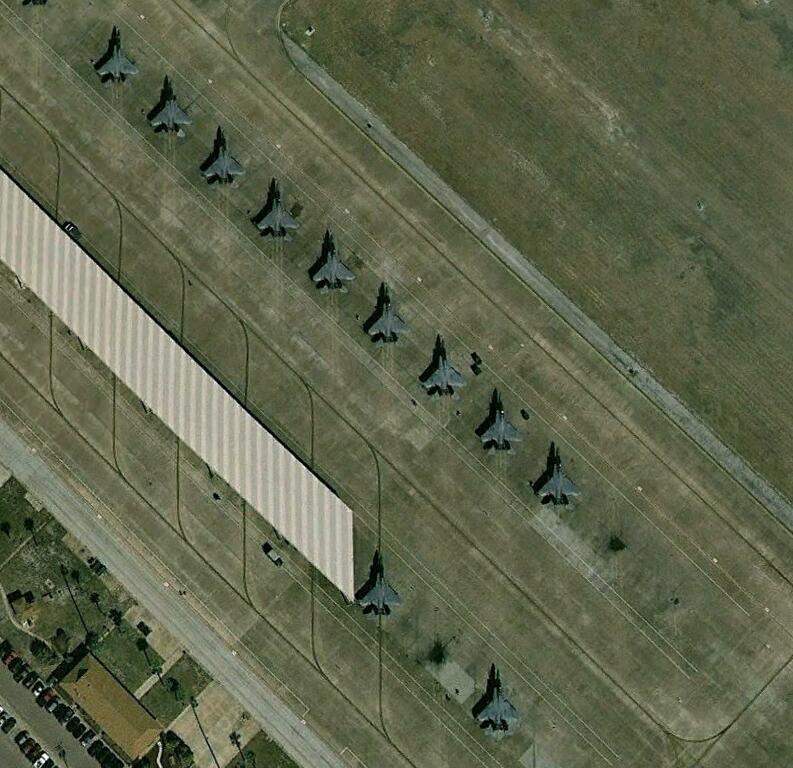A13: (533, 443, 585, 510), (472, 668, 523, 735), (309, 233, 361, 295), (253, 178, 303, 242), (356, 553, 403, 620), (366, 284, 413, 348), (419, 337, 468, 398), (477, 391, 523, 453), (202, 129, 248, 189), (150, 79, 196, 137), (95, 34, 140, 91)
